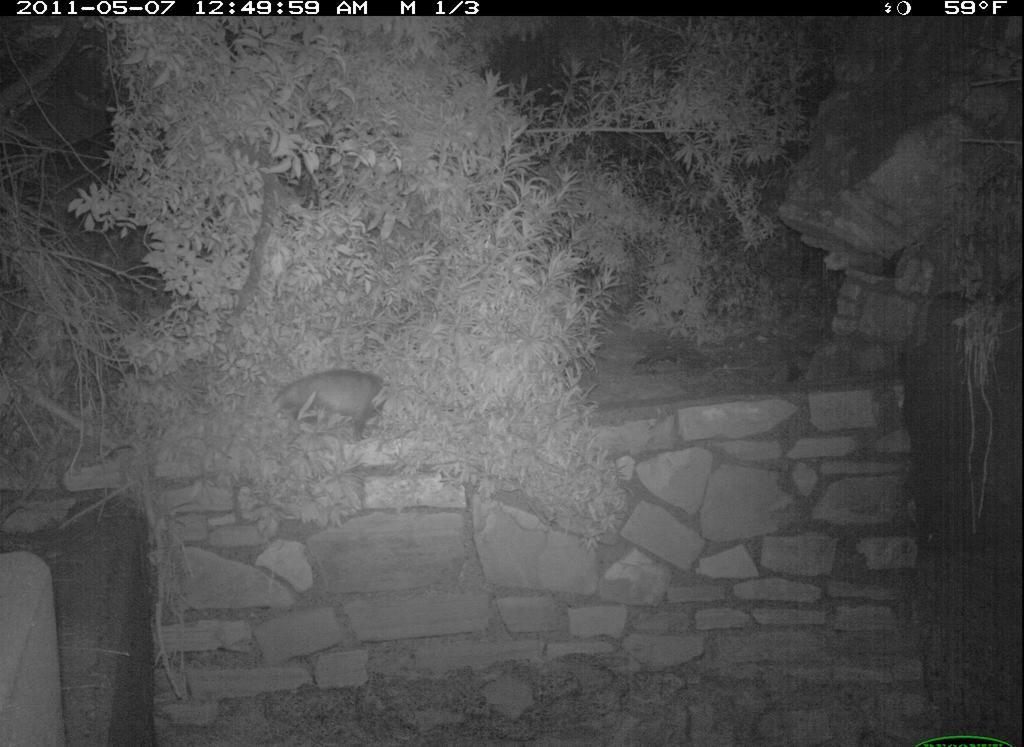opossum: (245, 354, 404, 461)
